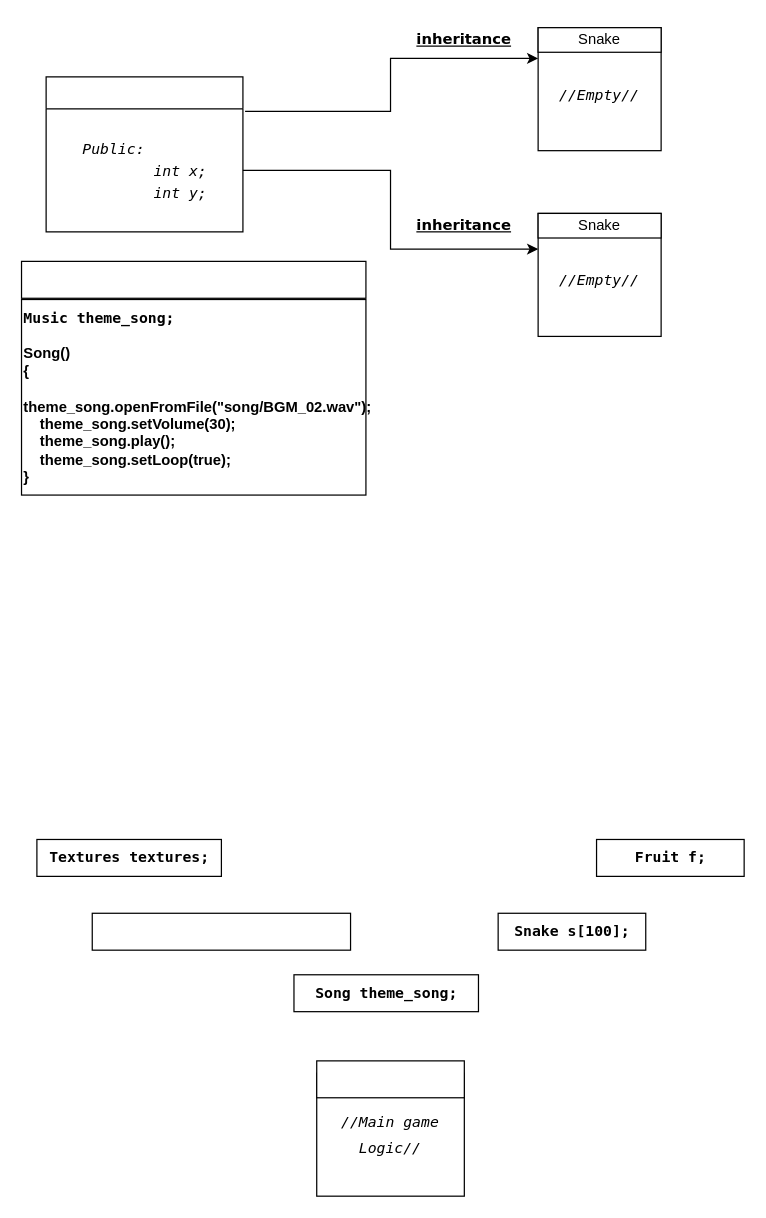
Some shapes in this 766 by 1218 pixel diagram are drawn without their labels. Each missing label, with the box of its shape:
Coordinates: (45, 76, 243, 232)
Main(): (315, 1060, 464, 1098)
Music: (20, 260, 366, 298)
Sprites sprites(textures);: (91, 912, 351, 950)
